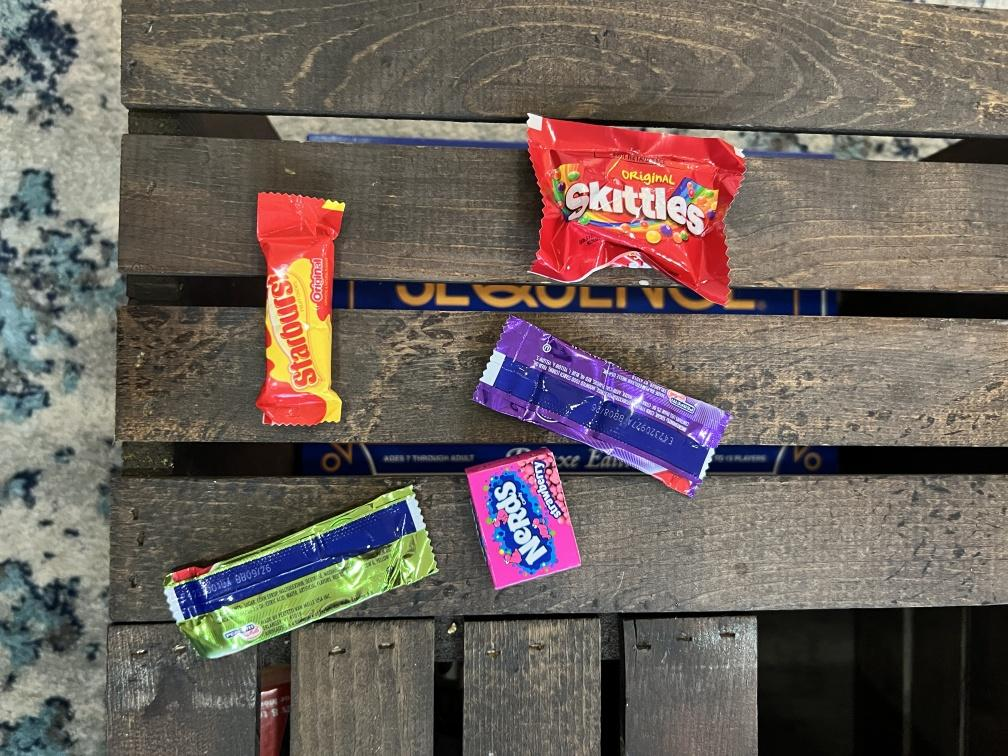airheads: (165, 486, 439, 650), (500, 318, 735, 490)
nerds: (460, 456, 567, 586)
skittles: (518, 115, 739, 306)
starburst: (256, 194, 351, 429)
